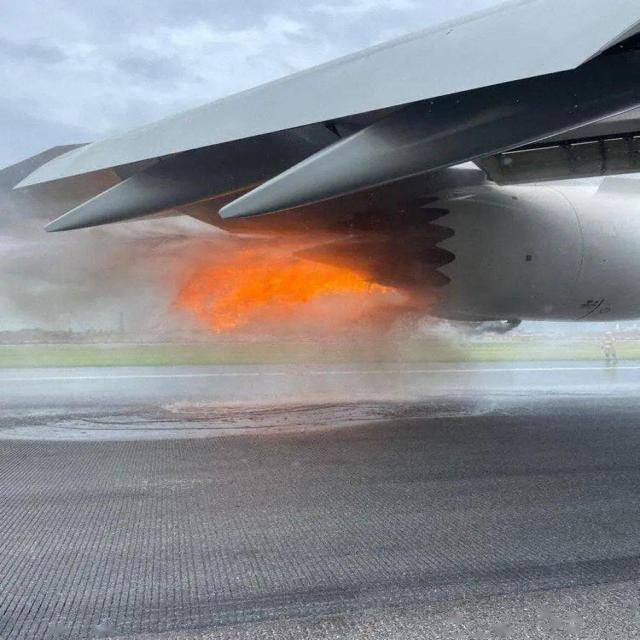Fire: (182, 255, 374, 328)
